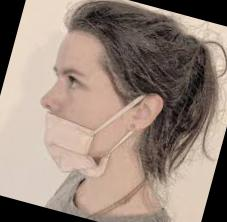mask_weared_incorrect: (20, 50, 128, 185)
